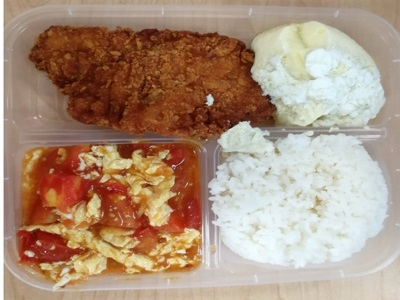jdg: (262, 24, 376, 126)
jdxhs: (21, 147, 190, 272)
jp: (40, 30, 239, 122)
rice: (220, 136, 370, 253)
